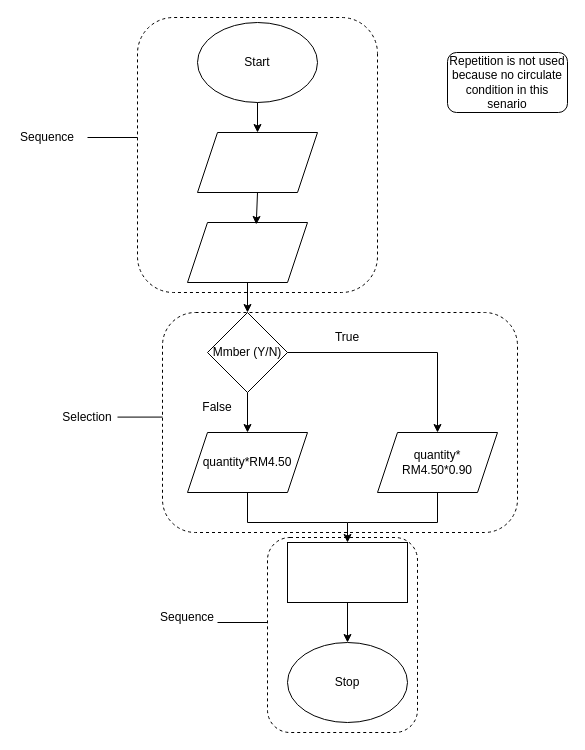
The diagram is 585 pixels wide and 750 high, and some of its shapes have lost their labels. The centre of each missing label's shape, as x and y in pixels:
Member: (x=247, y=252)
Print amount to pay: (x=347, y=572)
Quantity: (x=257, y=162)
